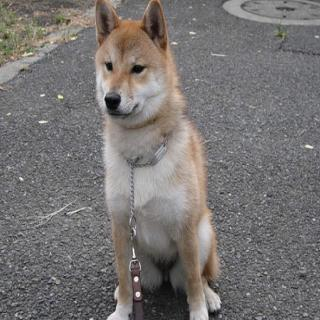dog: (90, 0, 171, 135)
nose: (101, 89, 122, 114)
